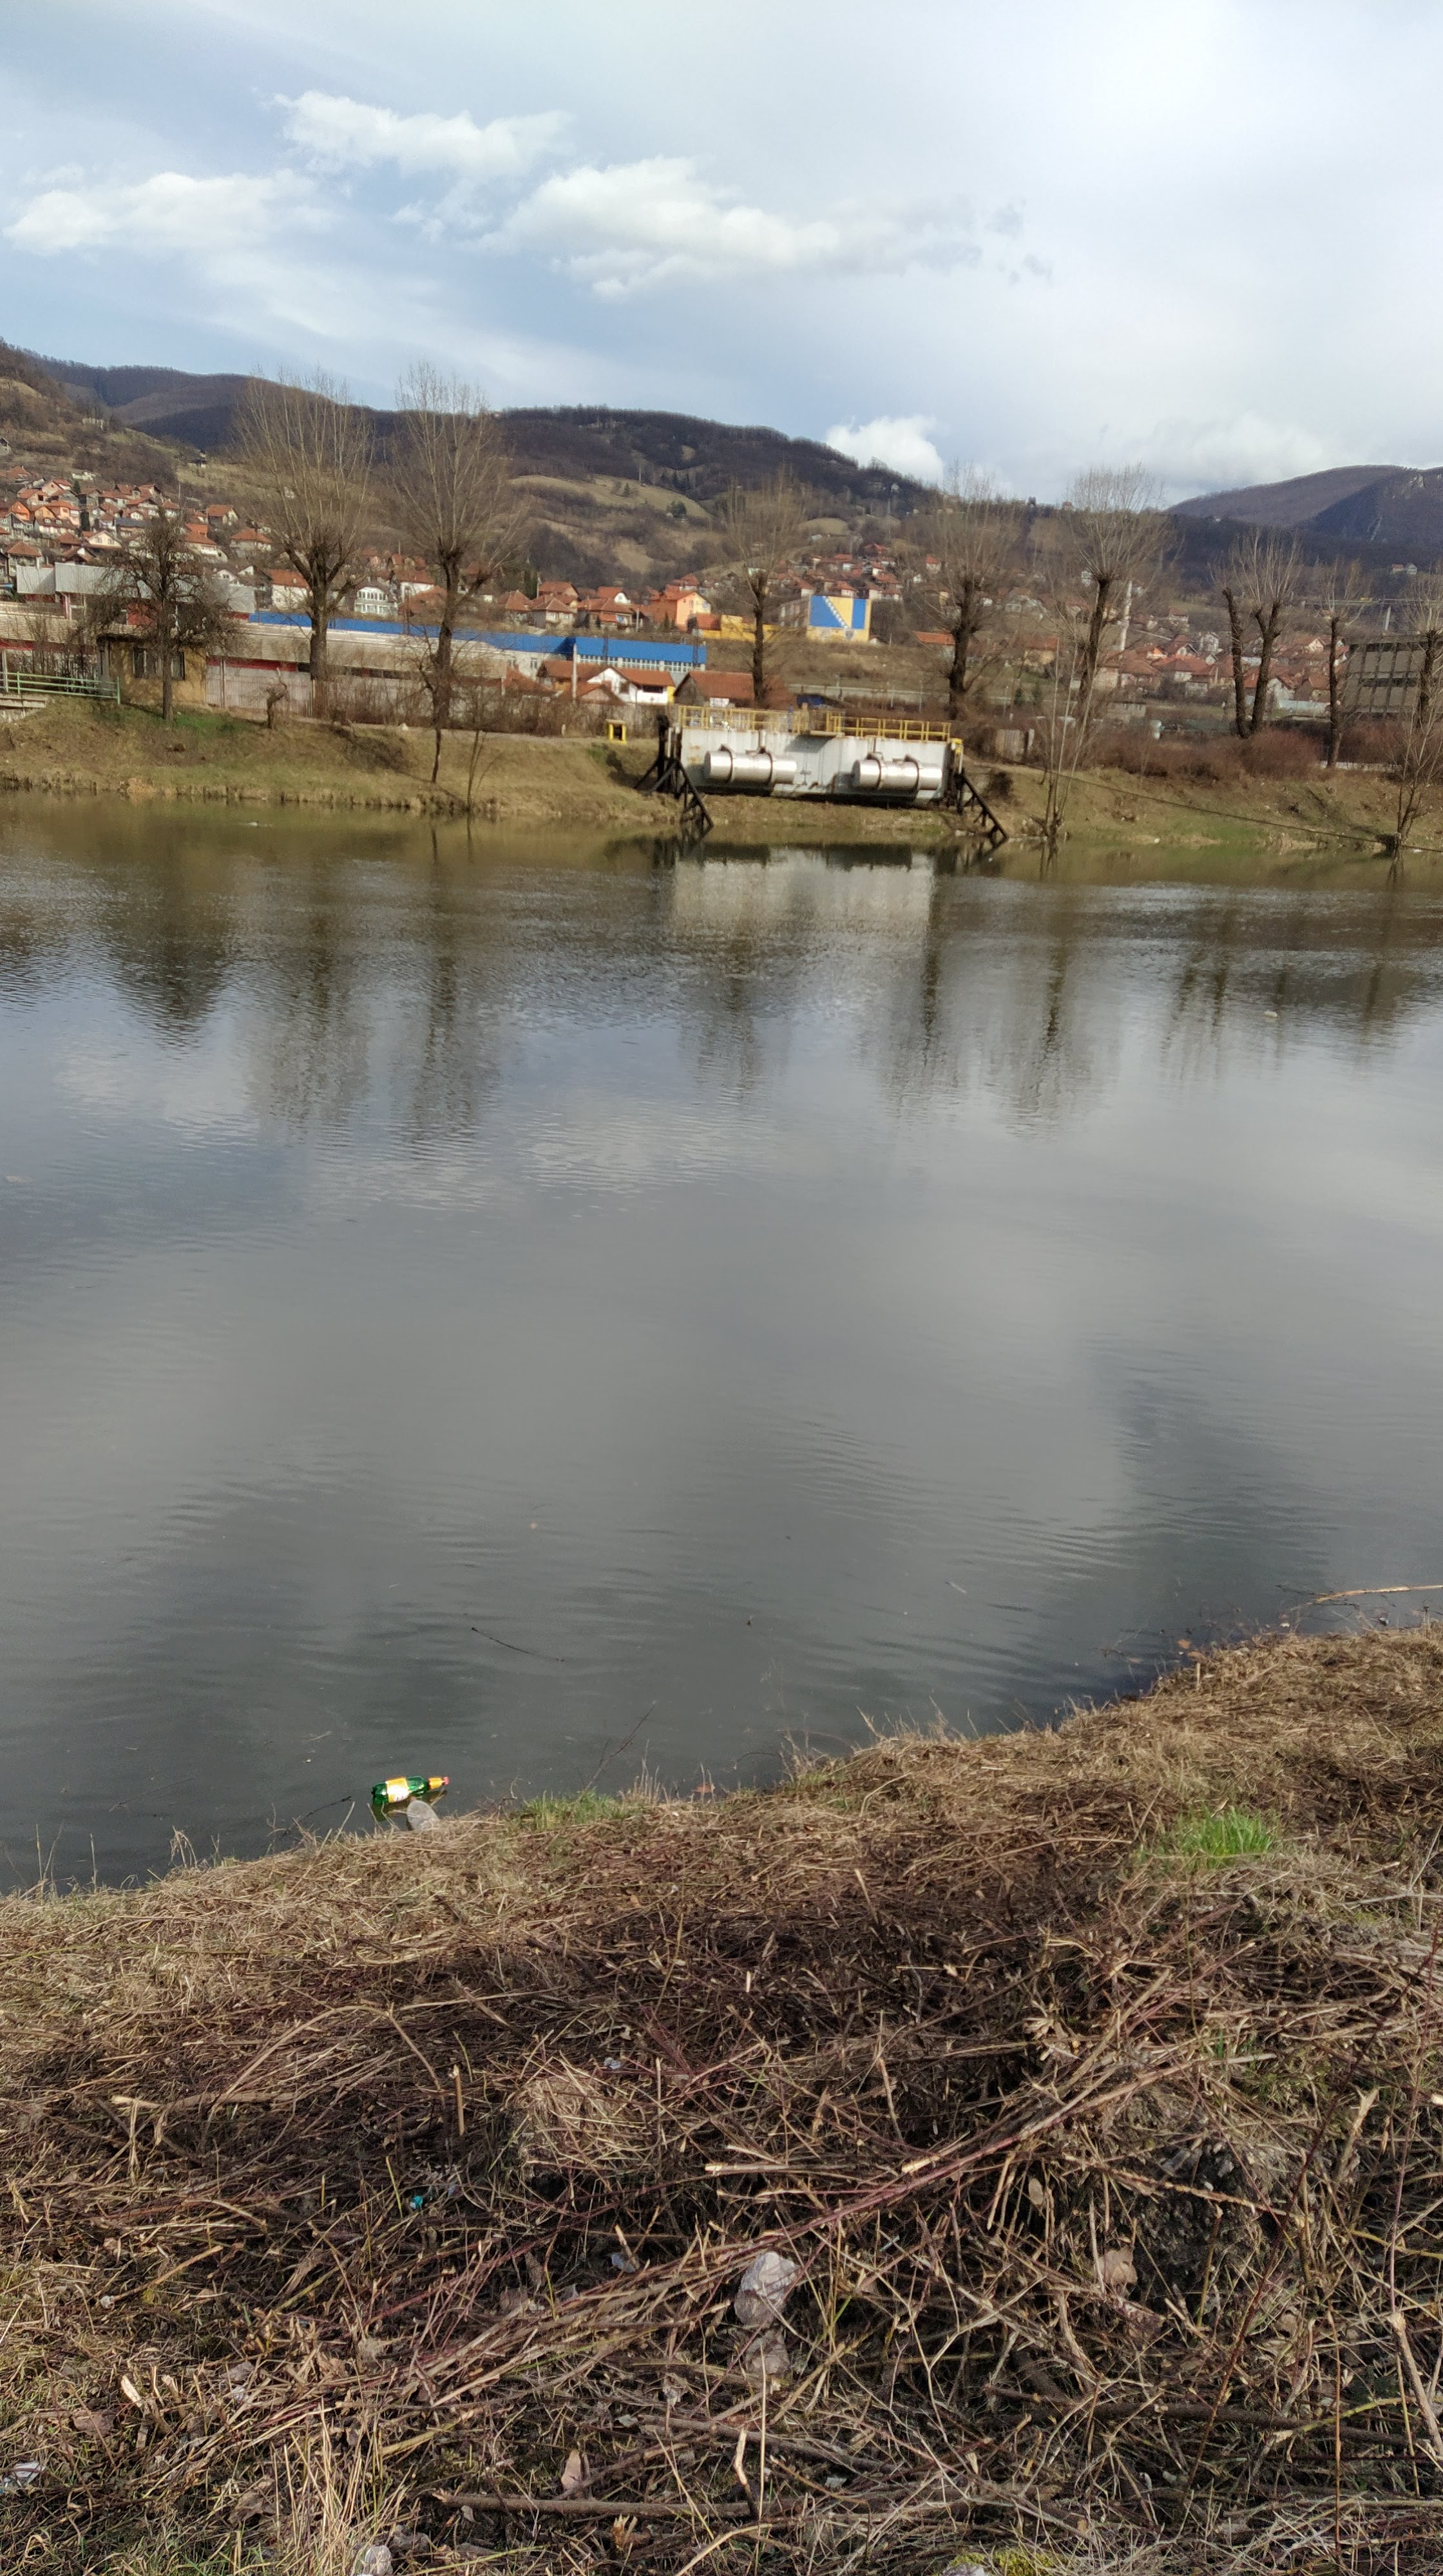Plastic Bottle: (372, 1775, 450, 1805), (407, 1796, 437, 1829), (1266, 1010, 1275, 1016)
